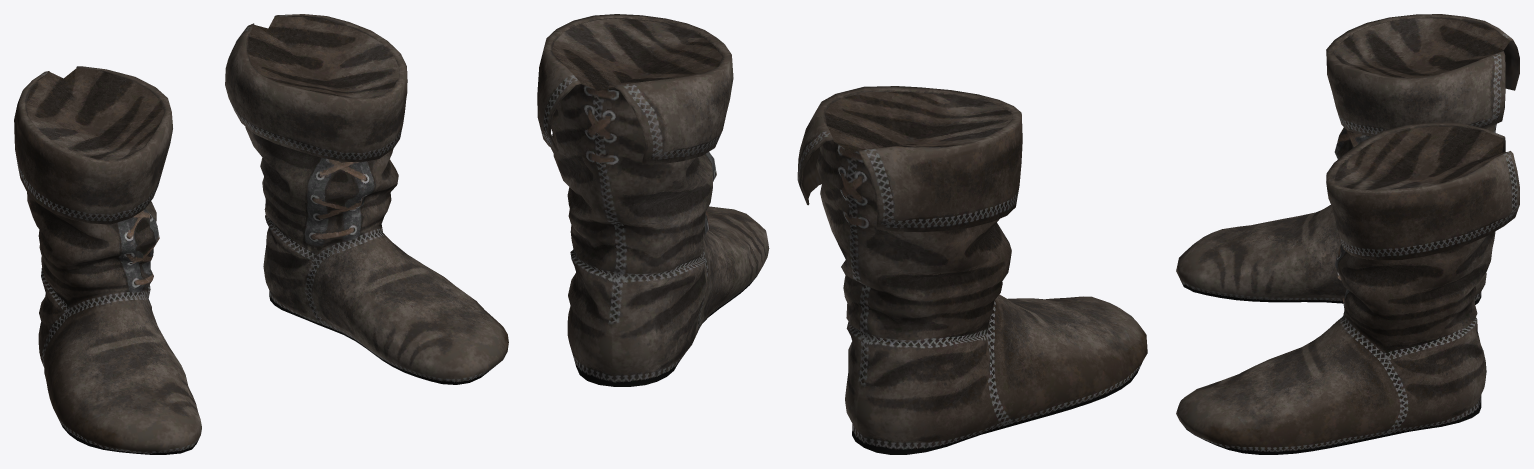
The model's file is sk_dwarf_erebor_boots_light_b.fbx.
The picture shows the model from 3 angles, left to right: view 1: azimuth 30°, elevation 25°; view 2: azimuth 150°, elevation 25°; view 3: azimuth 270°, elevation 25°; orthographic projection. The views are drawn at different scales.
Parts seen in each view (by area): view 1: sk_dwarf_erebor_boots_light_b; view 2: sk_dwarf_erebor_boots_light_b; view 3: sk_dwarf_erebor_boots_light_b.
Part boxes in pixels (x1=…): sk_dwarf_erebor_boots_light_b: x1=14, y1=14, x2=508, y2=454; sk_dwarf_erebor_boots_light_b: x1=537, y1=14, x2=1147, y2=454; sk_dwarf_erebor_boots_light_b: x1=1176, y1=14, x2=1519, y2=454.
Bounding box in the file's own units: 0.5227 × 0.3638 × 0.3037.
1 material, 1 textured.
